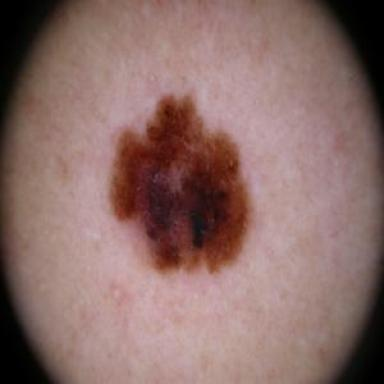Melanoma: (107, 95, 251, 275)
